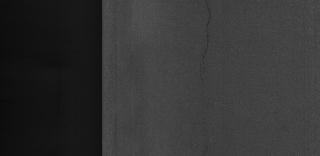water spot: (196, 4, 220, 74)
